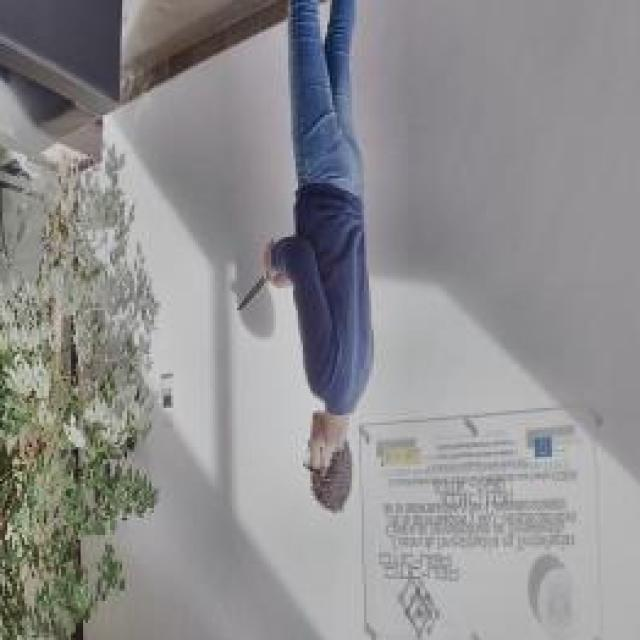knife: (235, 268, 276, 318)
